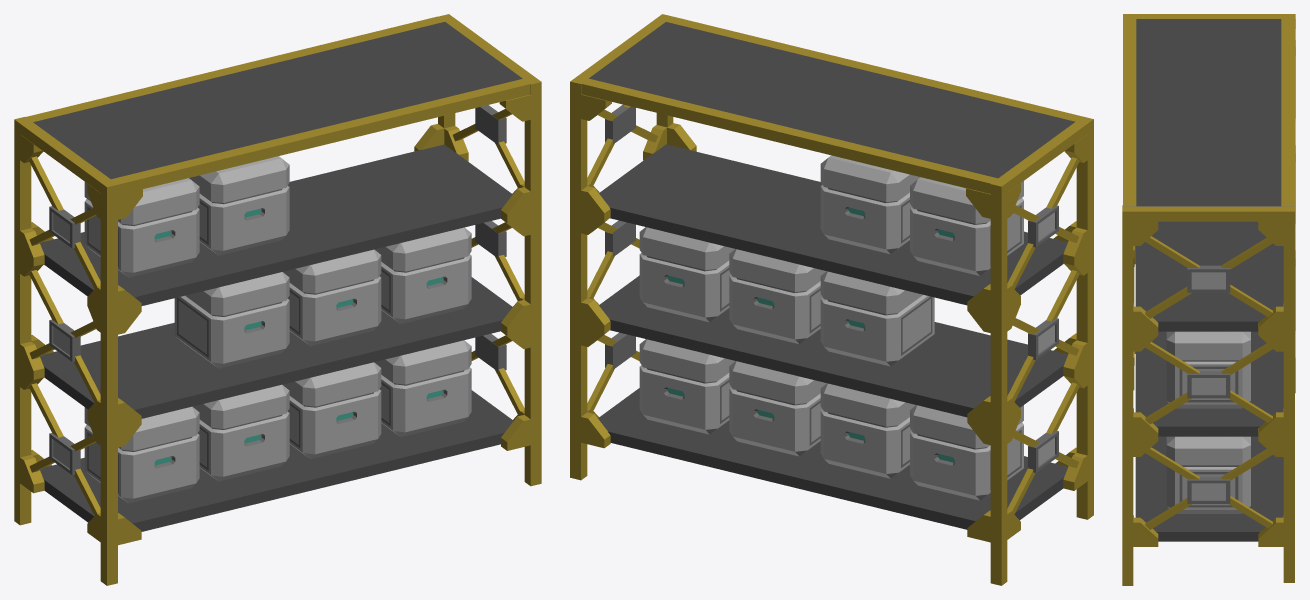
File: etagere caisse.fbx
3 renders of one model, left to right at view 1: azimuth 30°, elevation 25°; view 2: azimuth 150°, elevation 25°; view 3: azimuth 270°, elevation 25°, orthographic. The views are drawn at different scales.
Parts seen in each view (by area): view 1: etagere_caisse; view 2: etagere_caisse; view 3: etagere_caisse.
Boxes of the visible parts, x1,y1,x2,y2 form: etagere_caisse: (14,14,541,585); etagere_caisse: (570,14,1093,585); etagere_caisse: (1122,14,1295,585).
Size of the model in its own units: 2.72 by 2.4 by 1.01.
